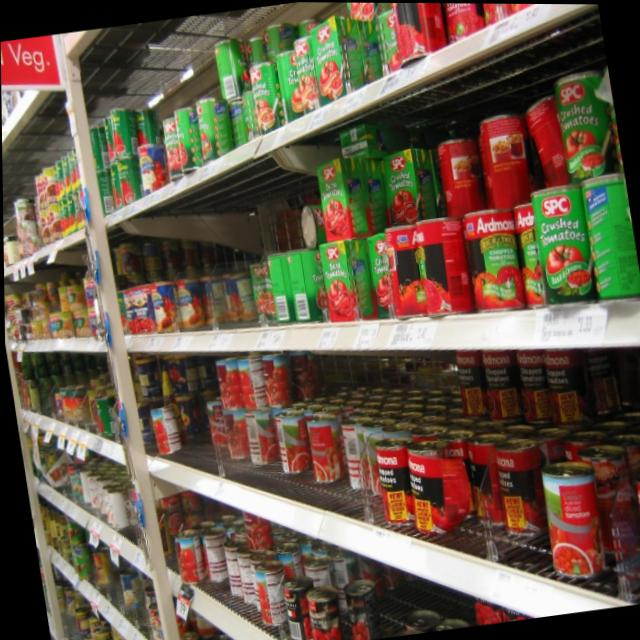q76: (319, 237, 363, 323), (190, 92, 228, 165), (169, 105, 205, 177), (102, 103, 137, 172)
